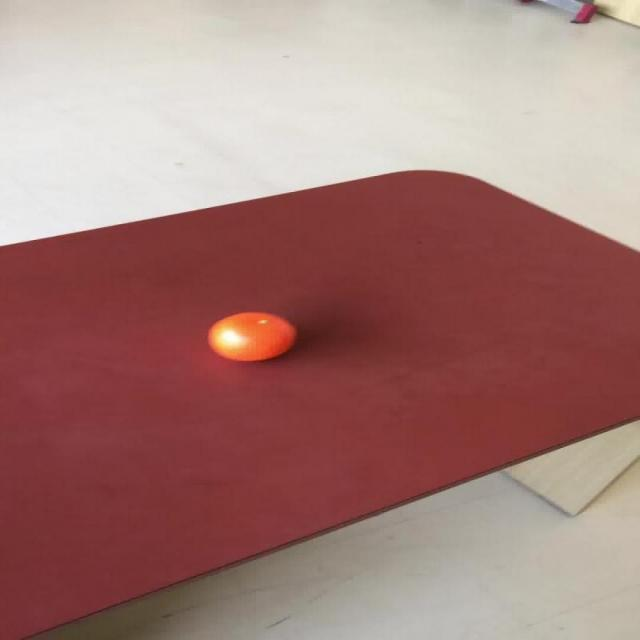Orange: (206, 310, 297, 362)
